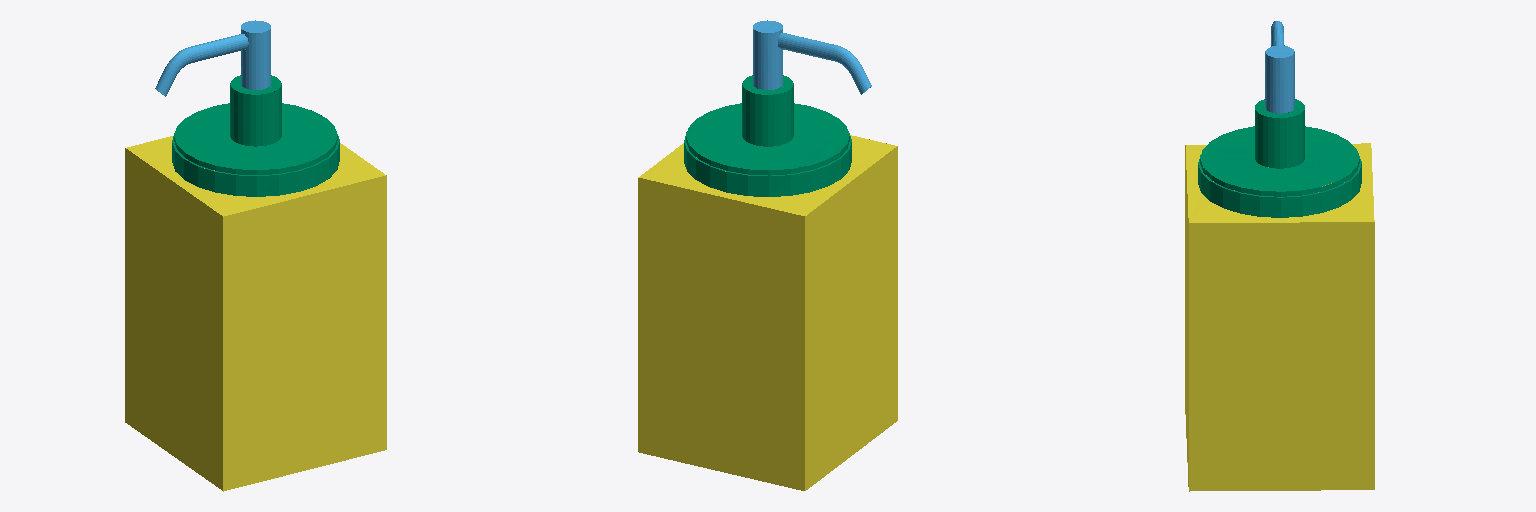
The robot description file, URDF, robot "partnet_u67595d10-87df-480a-be52-7a390005c95e-0":
<?xml version="1.0" ?>
<robot name="partnet_u67595d10-87df-480a-be52-7a390005c95e-0">
	<link name="base"/>
	<link name="link_0">
		<visual name="pressing_lid-1">
			<origin xyz="0.005772907250754594 0 0.005233077245253221"/>
			<geometry>
				<mesh filename="textured_objs/original_12.obj"/>
			</geometry>
		</visual>
		<visual name="pressing_lid-1">
			<origin xyz="0.005772907250754594 0 0.005233077245253221"/>
			<geometry>
				<mesh filename="textured_objs/original_11.obj"/>
			</geometry>
		</visual>
		<visual name="pressing_lid-1">
			<origin xyz="0.005772907250754594 0 0.005233077245253221"/>
			<geometry>
				<mesh filename="textured_objs/original_9.obj"/>
			</geometry>
		</visual>
		<visual name="pressing_lid-1">
			<origin xyz="0.005772907250754594 0 0.005233077245253221"/>
			<geometry>
				<mesh filename="textured_objs/original_7.obj"/>
			</geometry>
		</visual>
		<visual name="pressing_lid-1">
			<origin xyz="0.005772907250754594 0 0.005233077245253221"/>
			<geometry>
				<mesh filename="textured_objs/original_10.obj"/>
			</geometry>
		</visual>
		<collision>
			<origin xyz="0.005772907250754594 0 0.005233077245253221"/>
			<geometry>
				<mesh filename="textured_objs/original_12.obj"/>
			</geometry>
		</collision>
		<collision>
			<origin xyz="0.005772907250754594 0 0.005233077245253221"/>
			<geometry>
				<mesh filename="textured_objs/original_11.obj"/>
			</geometry>
		</collision>
		<collision>
			<origin xyz="0.005772907250754594 0 0.005233077245253221"/>
			<geometry>
				<mesh filename="textured_objs/original_9.obj"/>
			</geometry>
		</collision>
		<collision>
			<origin xyz="0.005772907250754594 0 0.005233077245253221"/>
			<geometry>
				<mesh filename="textured_objs/original_7.obj"/>
			</geometry>
		</collision>
		<collision>
			<origin xyz="0.005772907250754594 0 0.005233077245253221"/>
			<geometry>
				<mesh filename="textured_objs/original_10.obj"/>
			</geometry>
		</collision>
	</link>
	<joint name="joint_0" type="continuous">
		<origin xyz="0.0 0 0.0"/>
		<axis xyz="0 1 0"/>
		<child link="link_0"/>
		<parent link="link_0_helper"/>
	</joint>
	<link name="link_1">
		<visual name="head-3">
			<origin xyz="0.005773500000000015 0 0.005233499999999974"/>
			<geometry>
				<mesh filename="textured_objs/original_5.obj"/>
			</geometry>
		</visual>
		<visual name="head-3">
			<origin xyz="0.005773500000000015 0 0.005233499999999974"/>
			<geometry>
				<mesh filename="textured_objs/original_4.obj"/>
			</geometry>
		</visual>
		<visual name="head-3">
			<origin xyz="0.005773500000000015 0 0.005233499999999974"/>
			<geometry>
				<mesh filename="textured_objs/original_6.obj"/>
			</geometry>
		</visual>
		<collision>
			<origin xyz="0.005773500000000015 0 0.005233499999999974"/>
			<geometry>
				<mesh filename="textured_objs/original_5.obj"/>
			</geometry>
		</collision>
		<collision>
			<origin xyz="0.005773500000000015 0 0.005233499999999974"/>
			<geometry>
				<mesh filename="textured_objs/original_4.obj"/>
			</geometry>
		</collision>
		<collision>
			<origin xyz="0.005773500000000015 0 0.005233499999999974"/>
			<geometry>
				<mesh filename="textured_objs/original_6.obj"/>
			</geometry>
		</collision>
	</link>
	<joint name="joint_1" type="continuous">
		<origin xyz="0.0 0 0.0"/>
		<axis xyz="0 -1 0"/>
		<child link="link_1"/>
		<parent link="link_1_helper"/>
	</joint>
	<link name="link_2">
		<visual name="base_body-4">
			<origin xyz="0 0 0"/>
			<geometry>
				<mesh filename="textured_objs/original_3.obj"/>
			</geometry>
		</visual>
		<visual name="base_body-4">
			<origin xyz="0 0 0"/>
			<geometry>
				<mesh filename="textured_objs/original_2.obj"/>
			</geometry>
		</visual>
		<visual name="base_body-4">
			<origin xyz="0 0 0"/>
			<geometry>
				<mesh filename="textured_objs/original_1.obj"/>
			</geometry>
		</visual>
		<collision>
			<origin xyz="0 0 0"/>
			<geometry>
				<mesh filename="textured_objs/original_3.obj"/>
			</geometry>
		</collision>
		<collision>
			<origin xyz="0 0 0"/>
			<geometry>
				<mesh filename="textured_objs/original_2.obj"/>
			</geometry>
		</collision>
		<collision>
			<origin xyz="0 0 0"/>
			<geometry>
				<mesh filename="textured_objs/original_1.obj"/>
			</geometry>
		</collision>
	</link>
	<joint name="joint_2" type="fixed">
		<origin rpy="1.570796326794897 0 -1.570796326794897" xyz="0 0 0"/>
		<child link="link_2"/>
		<parent link="base"/>
	</joint>
	<link name="link_0_helper">
		<inertial>
			<origin xyz="0 0 0"/>
			<mass value="1e-6"/>
			<inertia ixx="1e-10" ixy="0" ixz="0" iyy="1e-10" iyz="0" izz="1e-10"/>
		</inertial>
	</link>
	<joint name="joint_3" type="prismatic">
		<origin xyz="5.927492454206942e-07 0 4.227547467528653e-07"/>
		<axis xyz="0 -1 0"/>
		<child link="link_0_helper"/>
		<parent link="link_1"/>
		<limit lower="0" upper="0.14"/>
	</joint>
	<link name="link_1_helper">
		<inertial>
			<origin xyz="0 0 0"/>
			<mass value="1e-6"/>
			<inertia ixx="1e-10" ixy="0" ixz="0" iyy="1e-10" iyz="0" izz="1e-10"/>
		</inertial>
	</link>
	<joint name="joint_4" type="prismatic">
		<origin xyz="-0.005773500000000015 0 -0.005233499999999974"/>
		<axis xyz="0 1 0"/>
		<child link="link_1_helper"/>
		<parent link="link_2"/>
		<limit lower="0" upper="0.02"/>
	</joint>
</robot>

--- Render facts (derived) ---
Views: 3 orthographic renders of the robot side by side, from view 1: azimuth 30°, elevation 25°; view 2: azimuth 150°, elevation 25°; view 3: azimuth 270°, elevation 25°.
Robot: partnet_u67595d10-87df-480a-be52-7a390005c95e-0 — 6 links, 5 joints (2 continuous, 2 prismatic, 1 fixed); root link base; default pose: all joints at 0.
Links seen in each view (by area): view 1: link_2, link_1, link_0; view 2: link_2, link_1, link_0; view 3: link_2, link_1, link_0.
Link boxes in pixels (<box>): link_2: <box>125,136,386,491</box>; link_1: <box>172,75,339,196</box>; link_0: <box>155,20,270,96</box>; link_2: <box>638,135,897,490</box>; link_1: <box>684,75,851,196</box>; link_0: <box>753,20,871,94</box>; link_2: <box>1185,143,1374,491</box>; link_1: <box>1198,99,1361,217</box>; link_0: <box>1265,21,1294,113</box>.
Bounding box of the posed robot: 0.7986 × 0.7232 × 1.69 m (x, y, z).
Meshes: 11 distinct files referenced, 11 mesh visuals loaded (11 OBJ).
